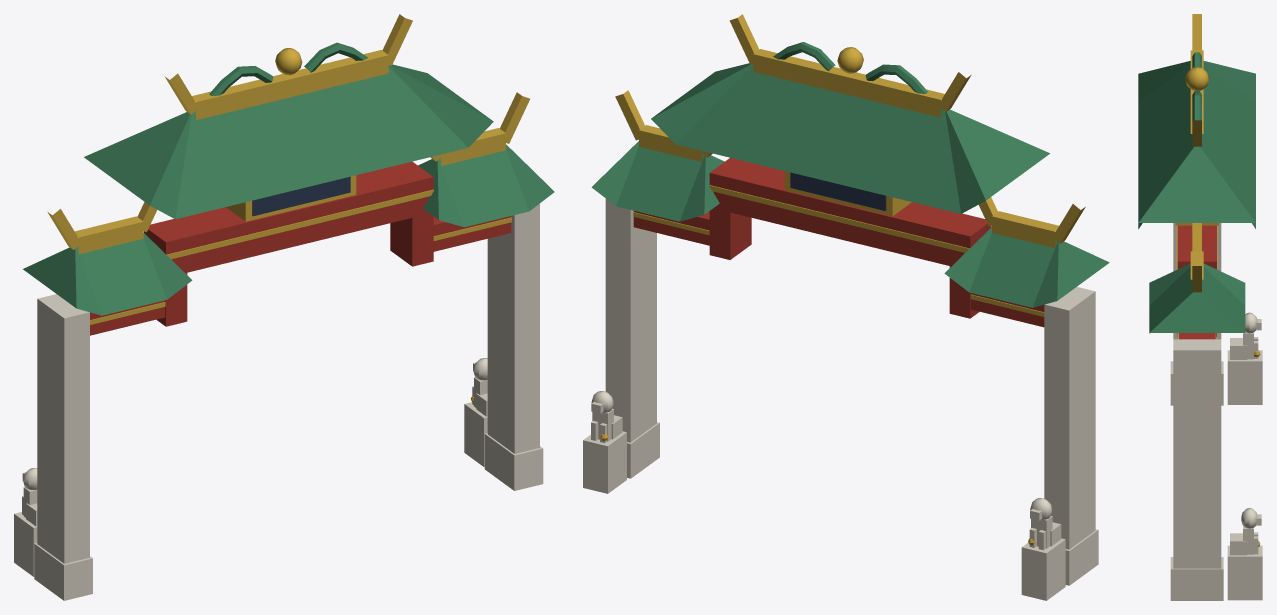
File: dragon-gate.glb
The picture shows the model from 3 angles, left to right: view 1: azimuth 30°, elevation 25°; view 2: azimuth 150°, elevation 25°; view 3: azimuth 270°, elevation 25°; orthographic projection. The views are drawn at different scales.
Parts seen in each view (by area): view 1: gate; view 2: gate; view 3: gate.
Part boxes in pixels (x1,y1,x2,y2): gate: (14,14,554,600); gate: (583,14,1109,600); gate: (1138,14,1262,600).
Bounding box in the file's own units: 11.28 × 10.98 × 2.85.
